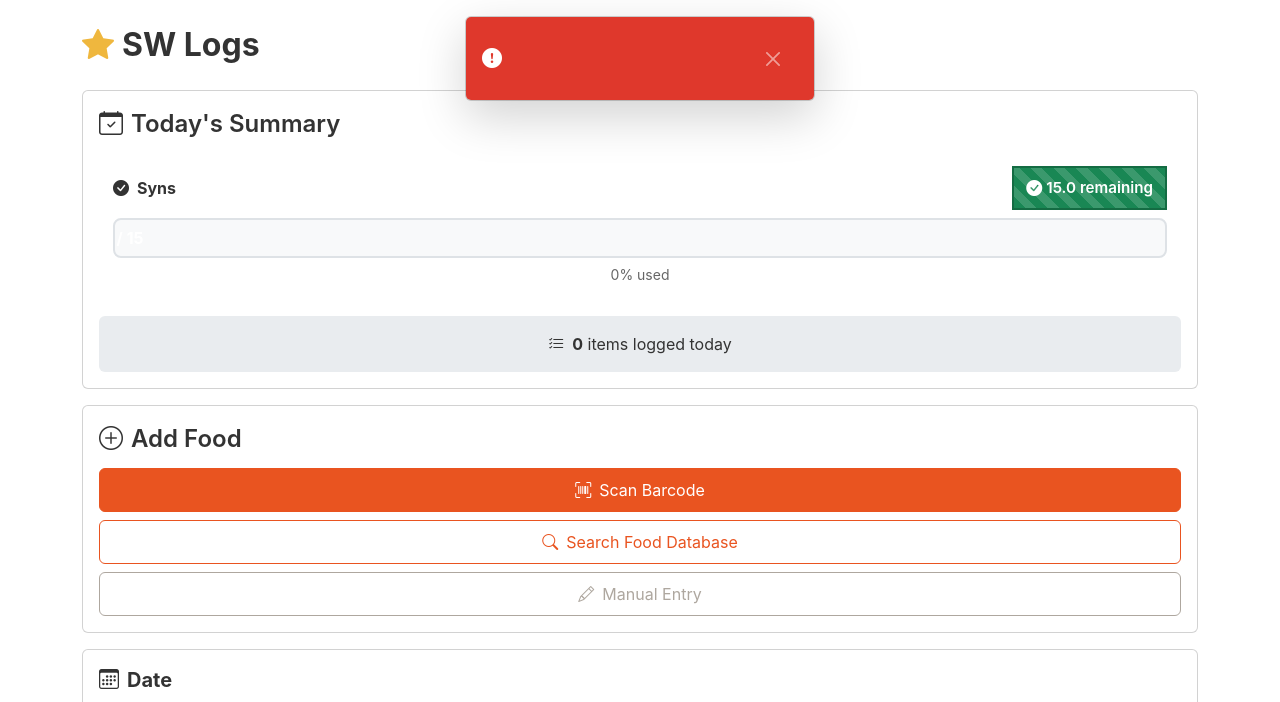
Test case: CalorieTracker Component › Food Entry Form › opens manual entry form
Click the button "Manual Entry" at (640, 594), box [99,572,1181,616]
(page scrolled)
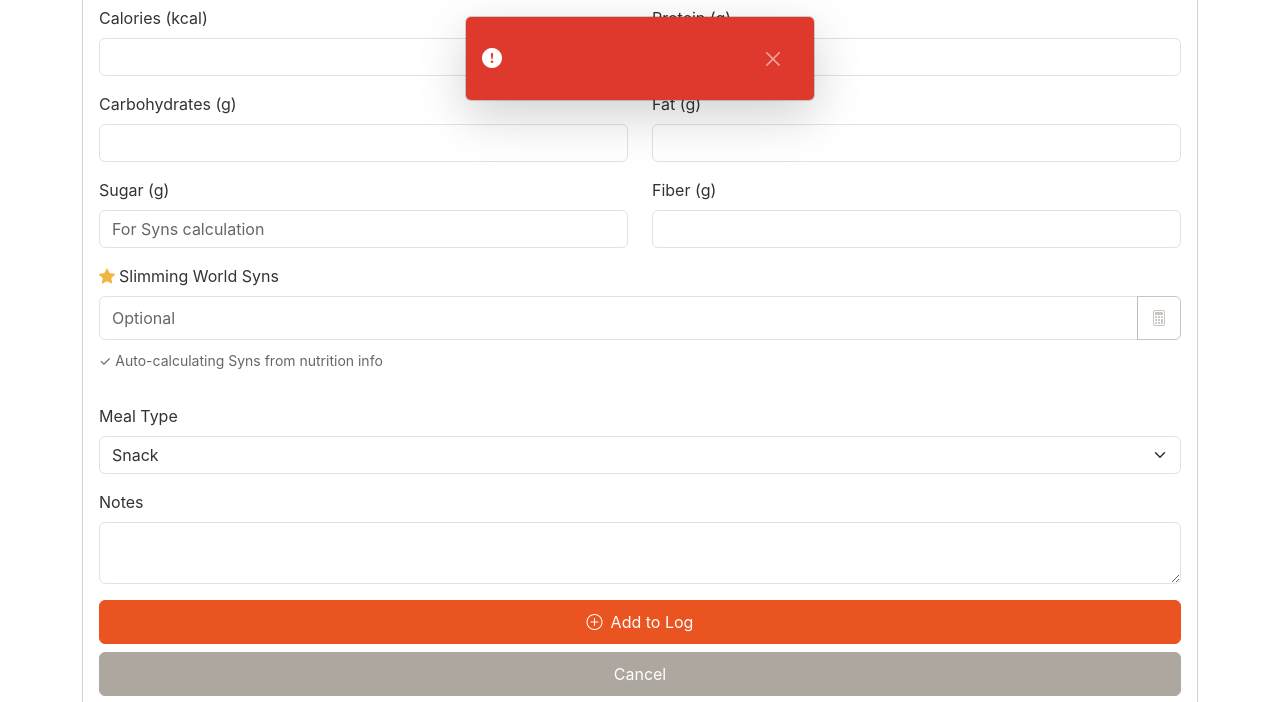
Expected: the text "✓ Auto-calculating Syns from nutrition info" is shown, [99,352,383,369]
